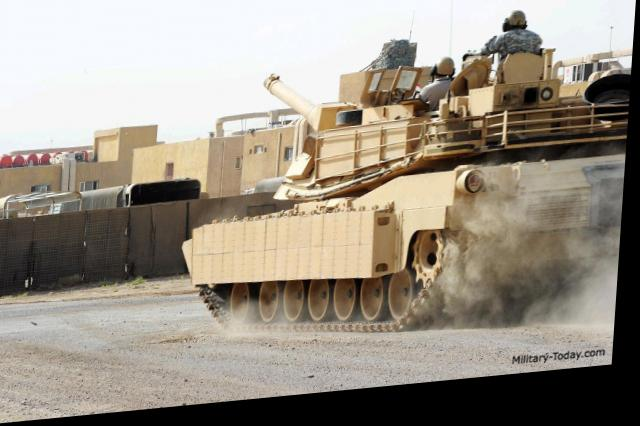other: (485, 18, 546, 65), (422, 64, 457, 111)
tank: (192, 63, 634, 337)
